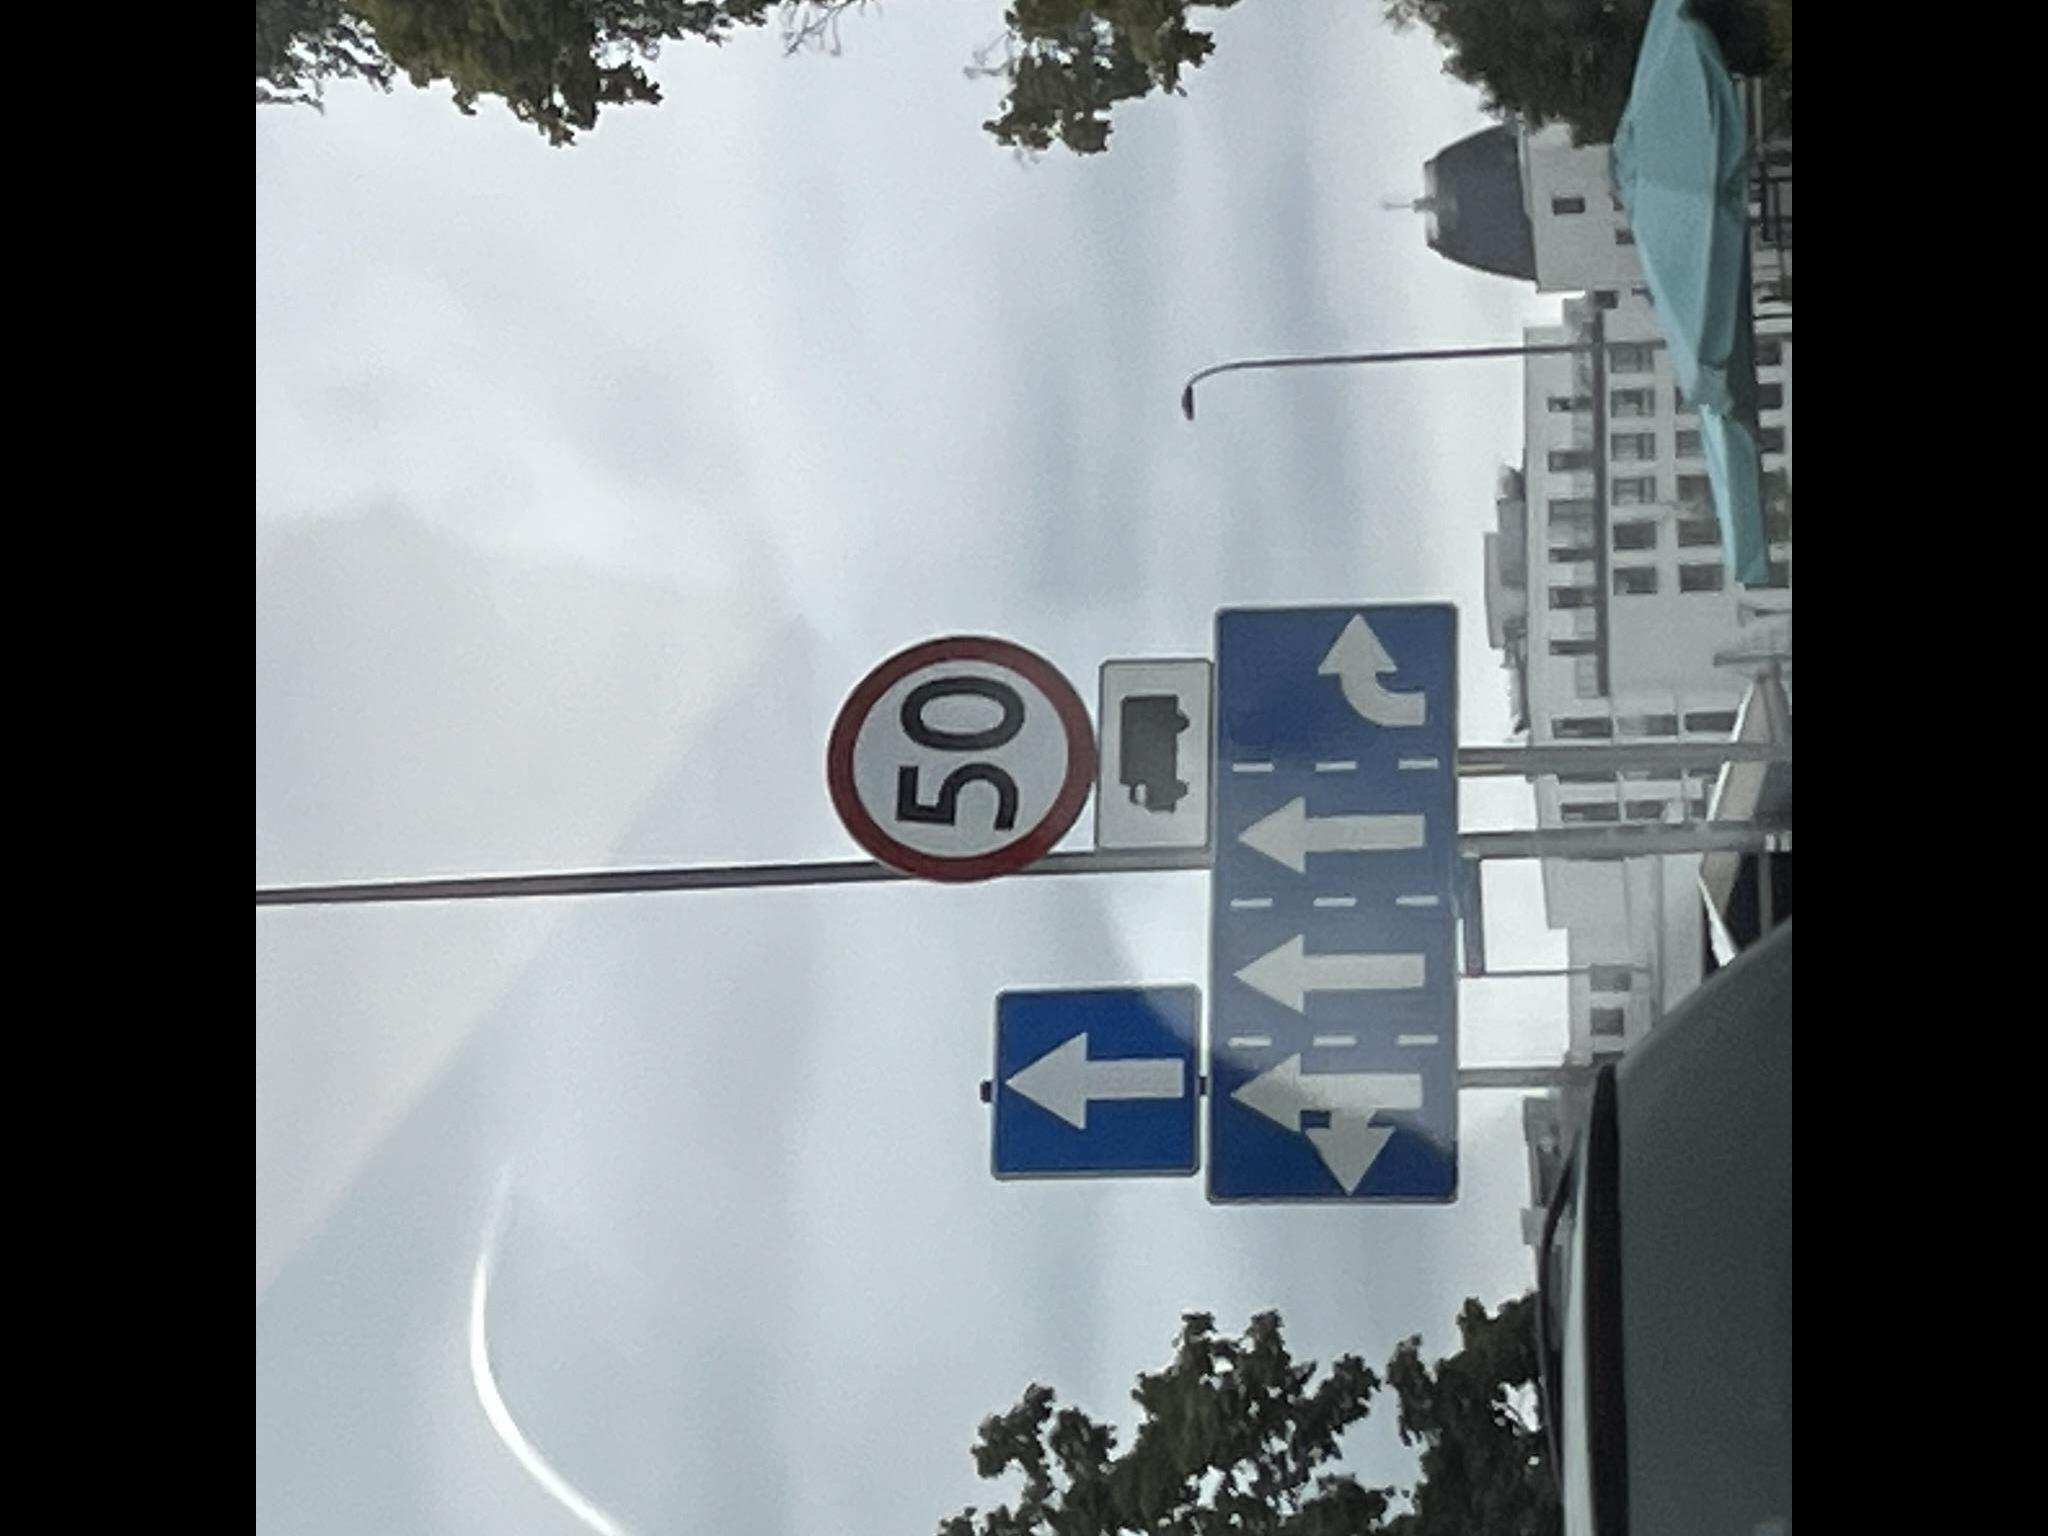information: (989, 983, 1201, 1183)
other: (1201, 600, 1459, 1205), (1093, 657, 1216, 852)
prohibitory: (822, 629, 1097, 886)
